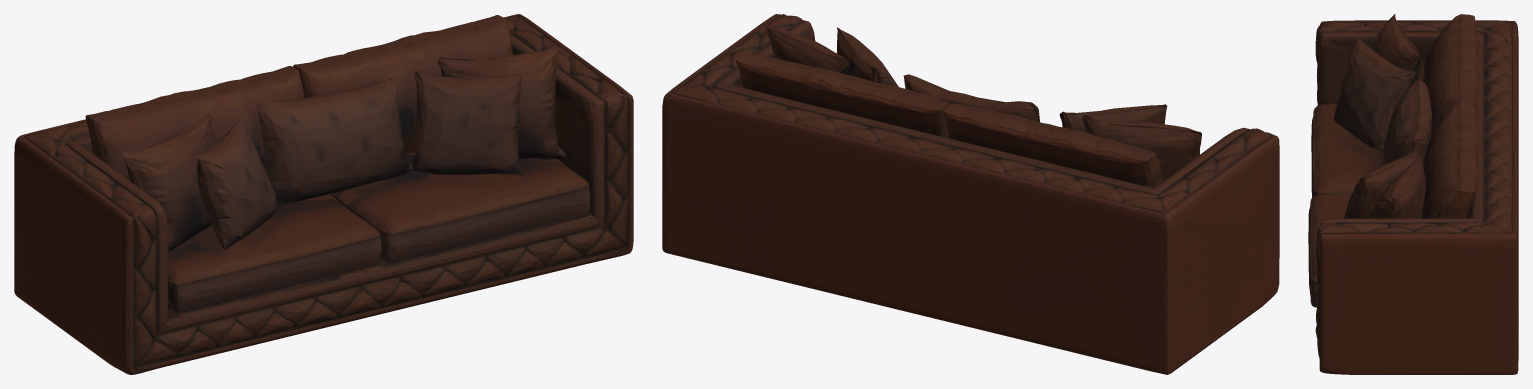
Rendered from edited_mesh.glb.
The picture shows the model from 3 angles, left to right: view 1: azimuth 30°, elevation 25°; view 2: azimuth 150°, elevation 25°; view 3: azimuth 270°, elevation 25°; orthographic projection. The views are drawn at different scales.
Parts seen in each view (by area): view 1: solid_001_wire; view 2: solid_001_wire; view 3: solid_001_wire.
Part boxes in pixels (x1,y1,x2,y2): solid_001_wire: (14,14,633,374); solid_001_wire: (662,14,1279,374); solid_001_wire: (1308,14,1518,374).
Bounding box in the file's own units: 2 × 0.7095 × 0.8163.
1 material, 1 textured.
